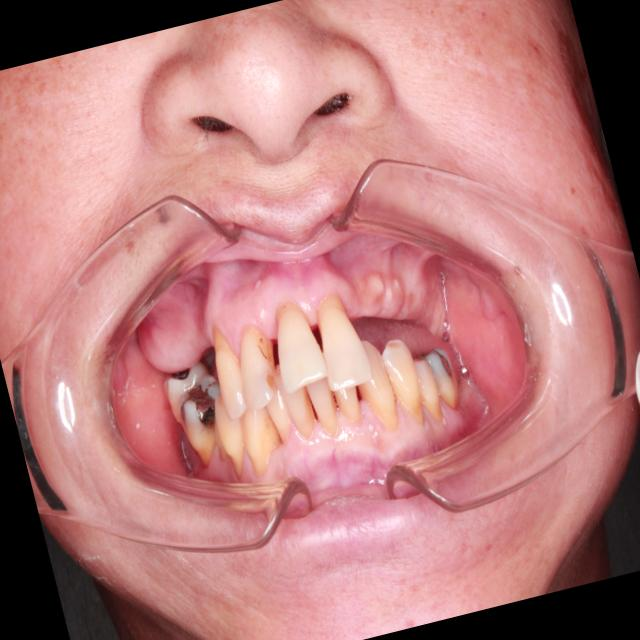tooth: (300, 282, 379, 399), (257, 289, 335, 397), (167, 368, 243, 475), (197, 314, 259, 425), (372, 323, 434, 434), (223, 314, 289, 417), (344, 330, 406, 438), (150, 351, 222, 429), (269, 352, 326, 446), (203, 386, 257, 484), (234, 394, 292, 479), (298, 361, 350, 443), (419, 335, 468, 416), (404, 349, 448, 429), (257, 376, 300, 451), (327, 370, 369, 430)
